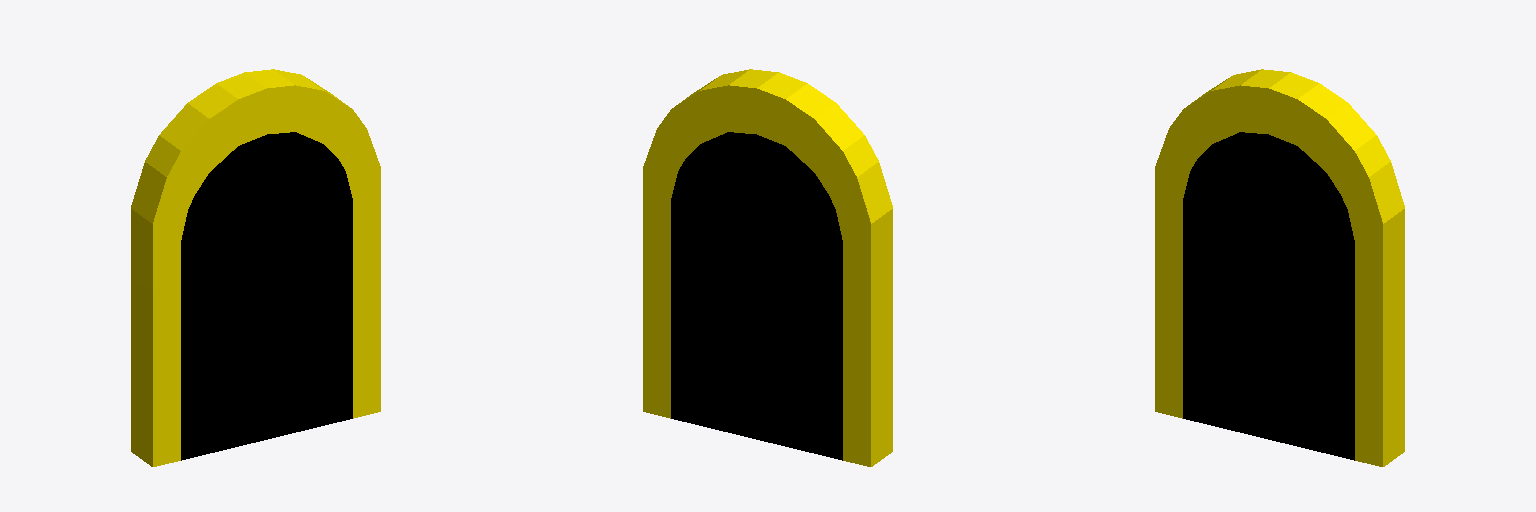
3 renders of one model, left to right at view 1: azimuth 30°, elevation 25°; view 2: azimuth 150°, elevation 25°; view 3: azimuth 330°, elevation 25°, orthographic.
Visible parts, largest first — view 1: Cube; view 2: Cube; view 3: Cube.
Part boxes in pixels (x1,y1,x2,y2): Cube: (131, 69, 380, 466); Cube: (643, 69, 892, 466); Cube: (1155, 69, 1404, 466).
Size of the model in its own units: 2.92 by 4.29 by 0.4881.
Materials: 1 (1 with a texture image).